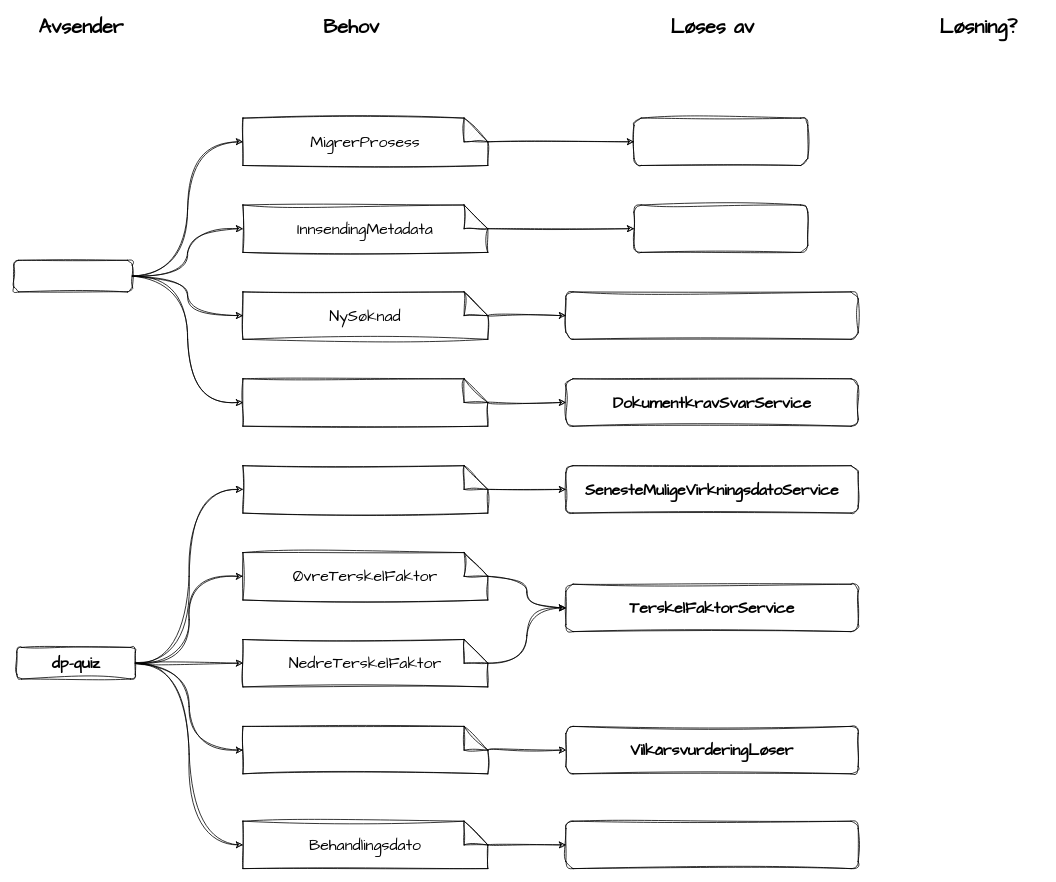
Some shapes in this 1056 by 882 pixel diagram are drawn without their labels. The shapes that lost their labels are listed below. From the top down, each one's centre as x and y in pixels, then its label:
At pixel 720 141: "MigrerProsessService".
At pixel 720 228: "MetadataService".
At pixel 72 276: "dp-soknad".
At pixel 711 315: "NyProsessBehovLøser".
At pixel 365 402: "DokumentkravSvar".
At pixel 365 489: "SenesteMuligeVirkningstidspunkt".
At pixel 365 750: "Paragraf_4_23_alder".
At pixel 711 844: "BehandlingsdatoService".
